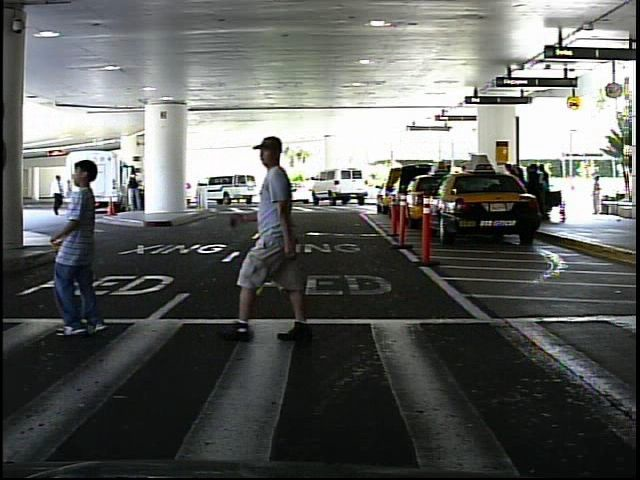person: (220, 128, 342, 345), (44, 156, 129, 345), (49, 171, 67, 221), (588, 172, 606, 217)
